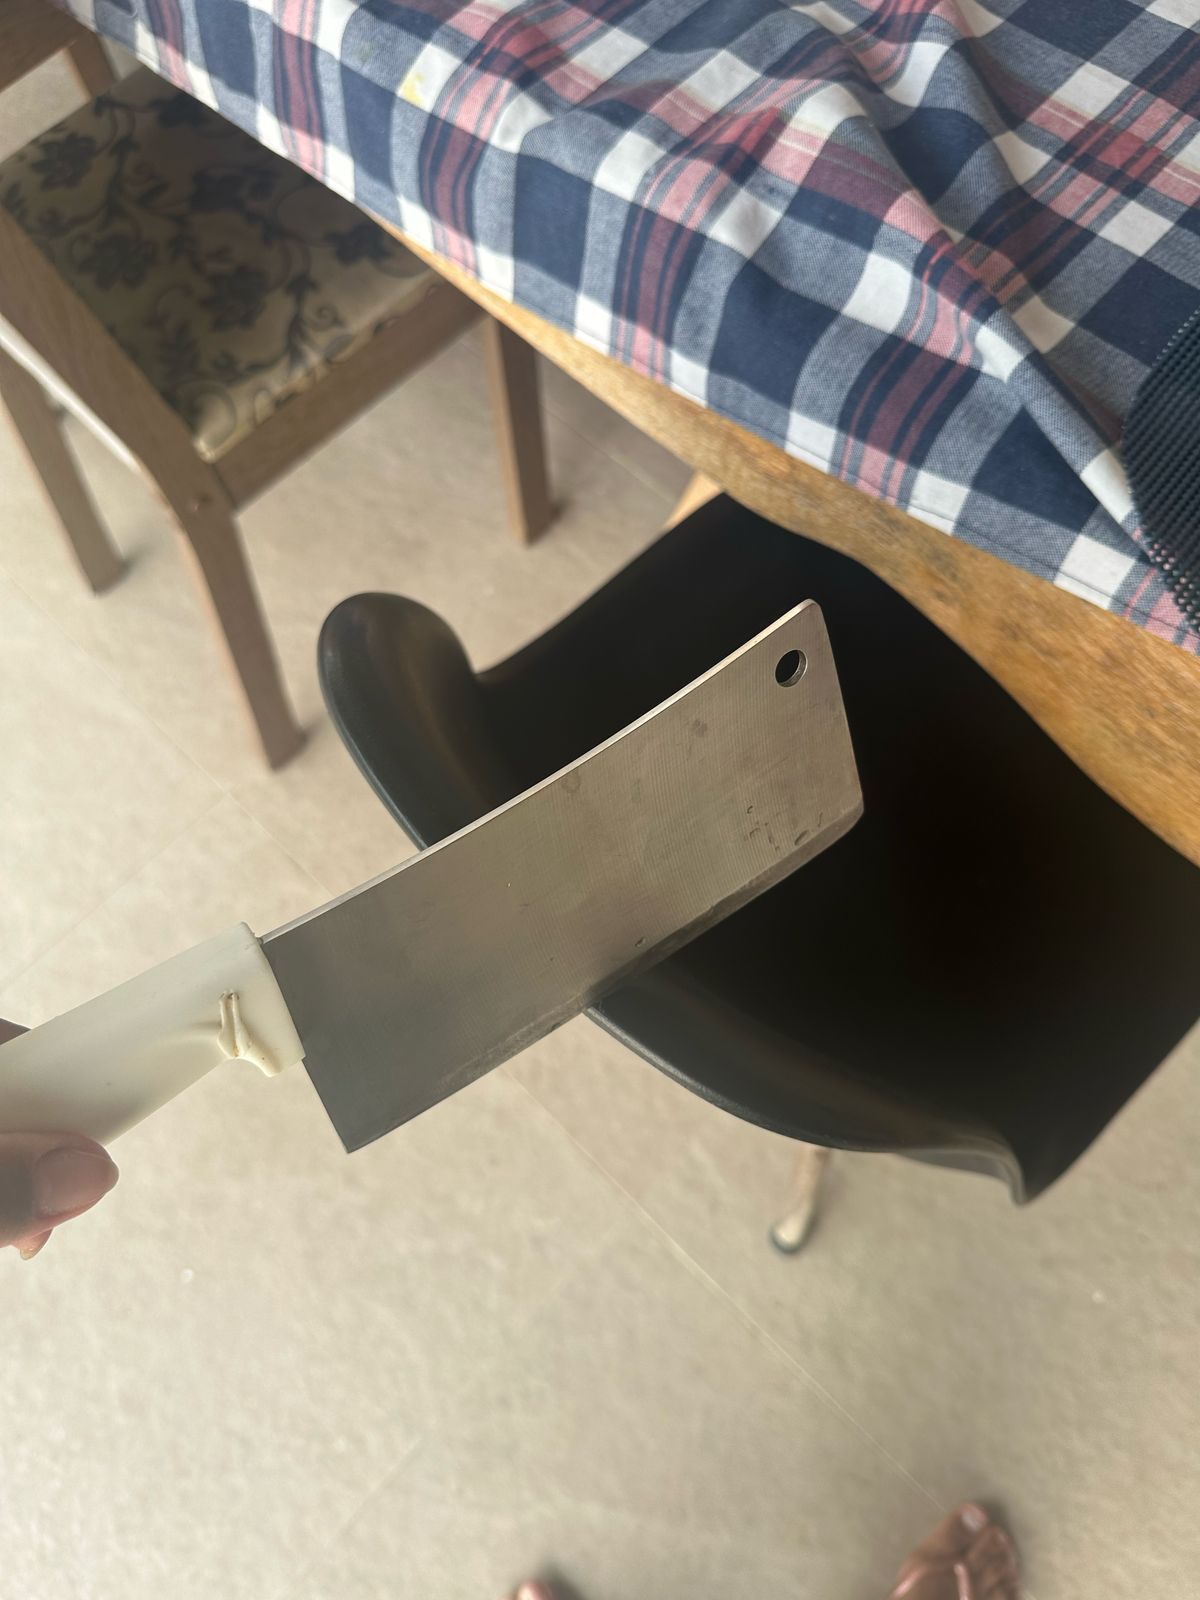faca: (117, 591, 871, 1158)
